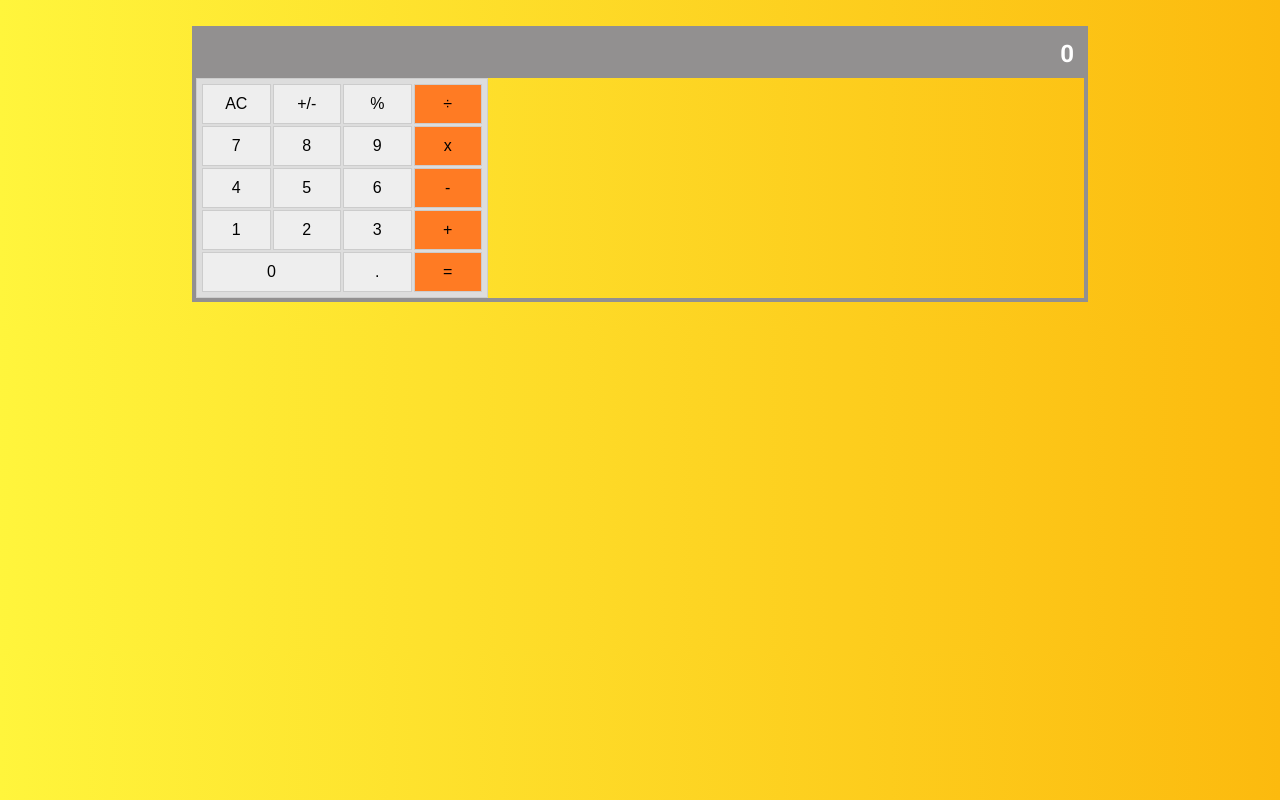
Calculator › Simulate user iteractions case 2
Click the button "7" at (236, 146), box x1=202 y1=126 x2=270 y2=166
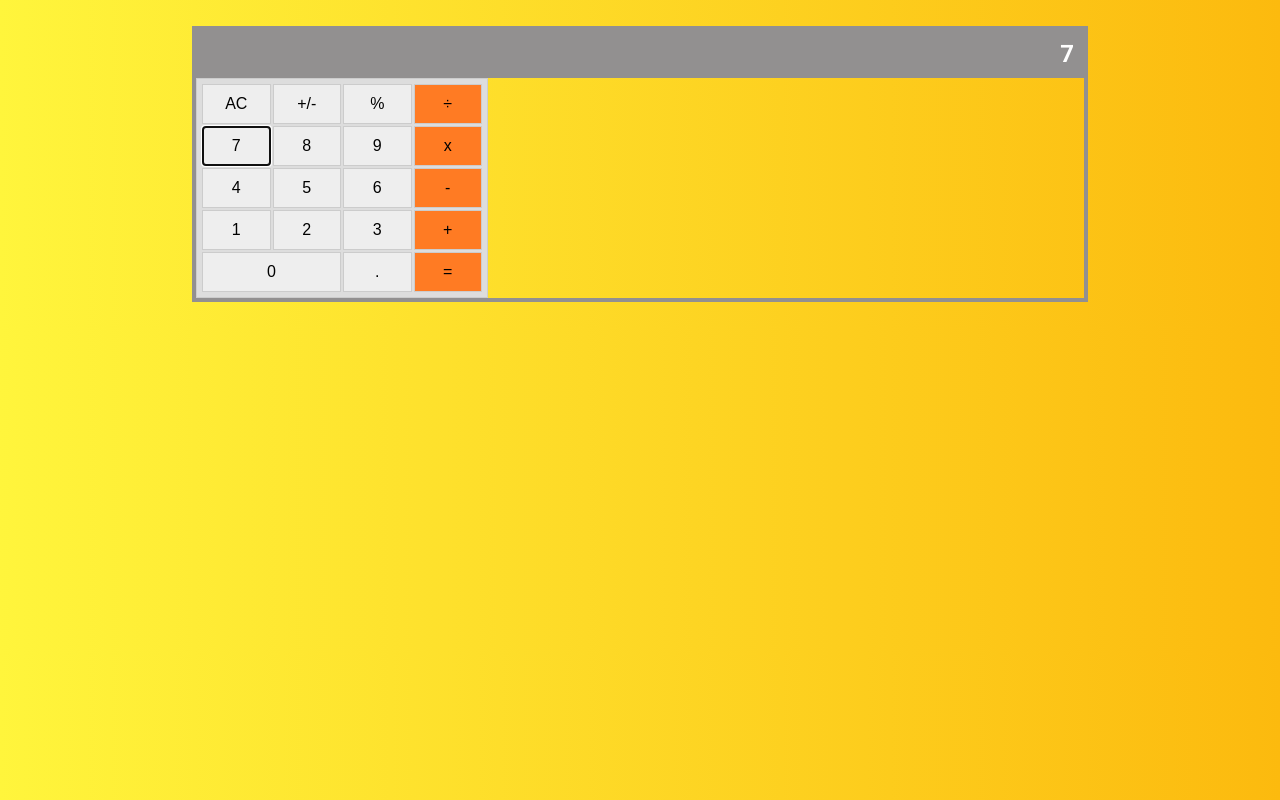
Click the button "+" at (448, 230), box x1=414 y1=210 x2=482 y2=250
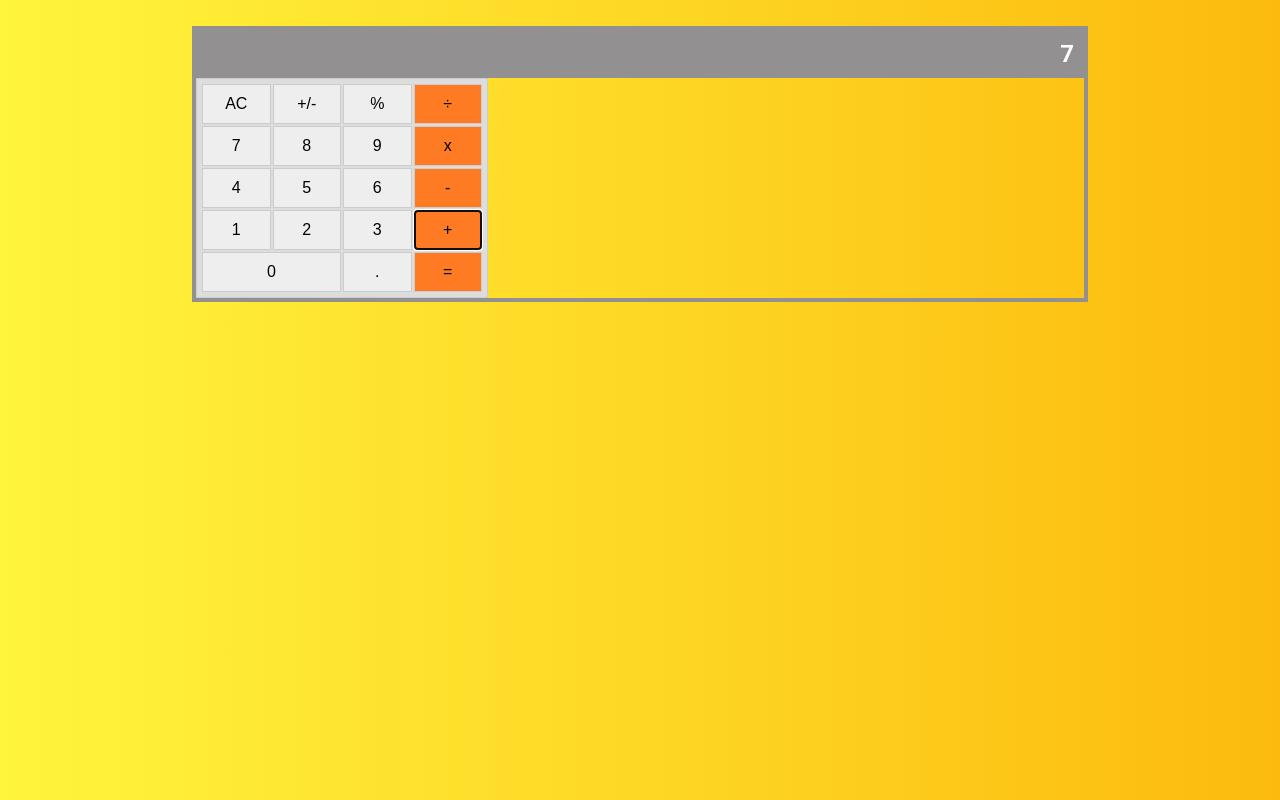
Click the button "8" at (307, 146), box x1=272 y1=126 x2=341 y2=166
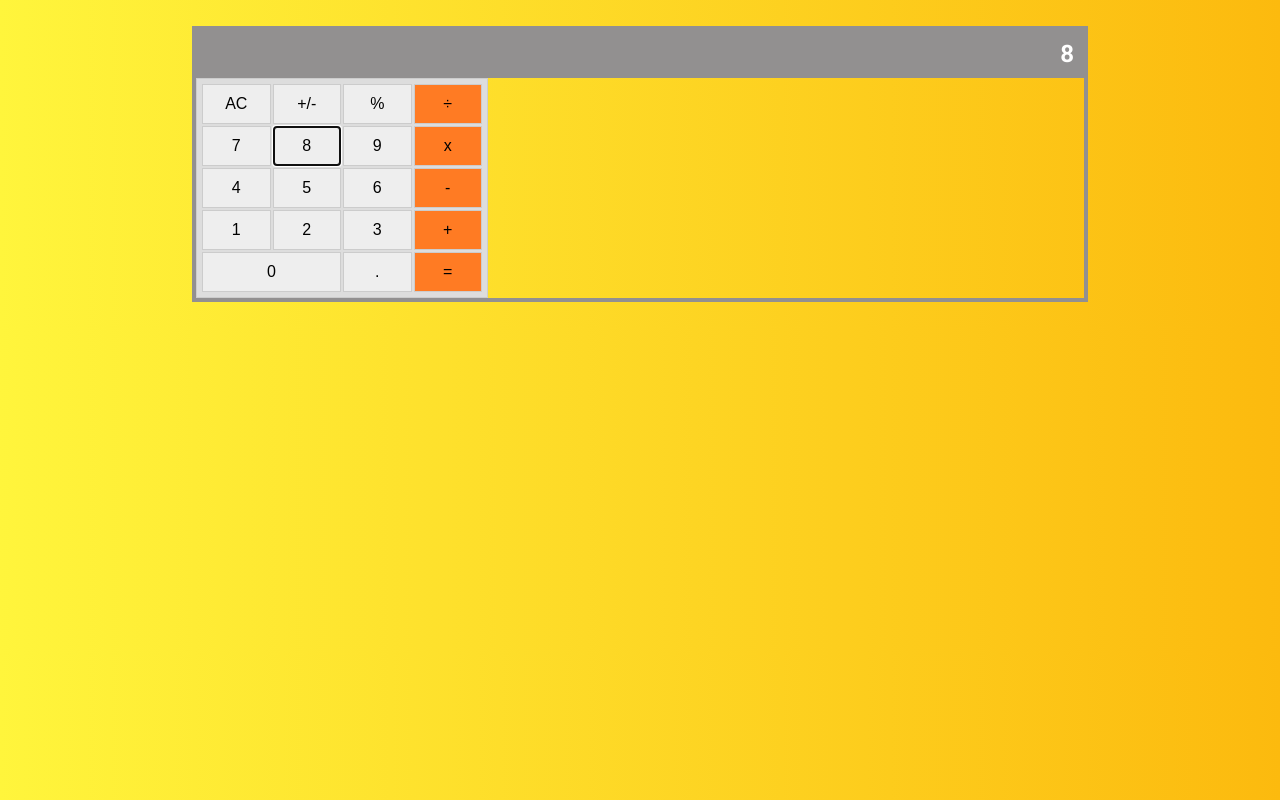
Click the button "=" at (448, 272), box x1=414 y1=252 x2=482 y2=292
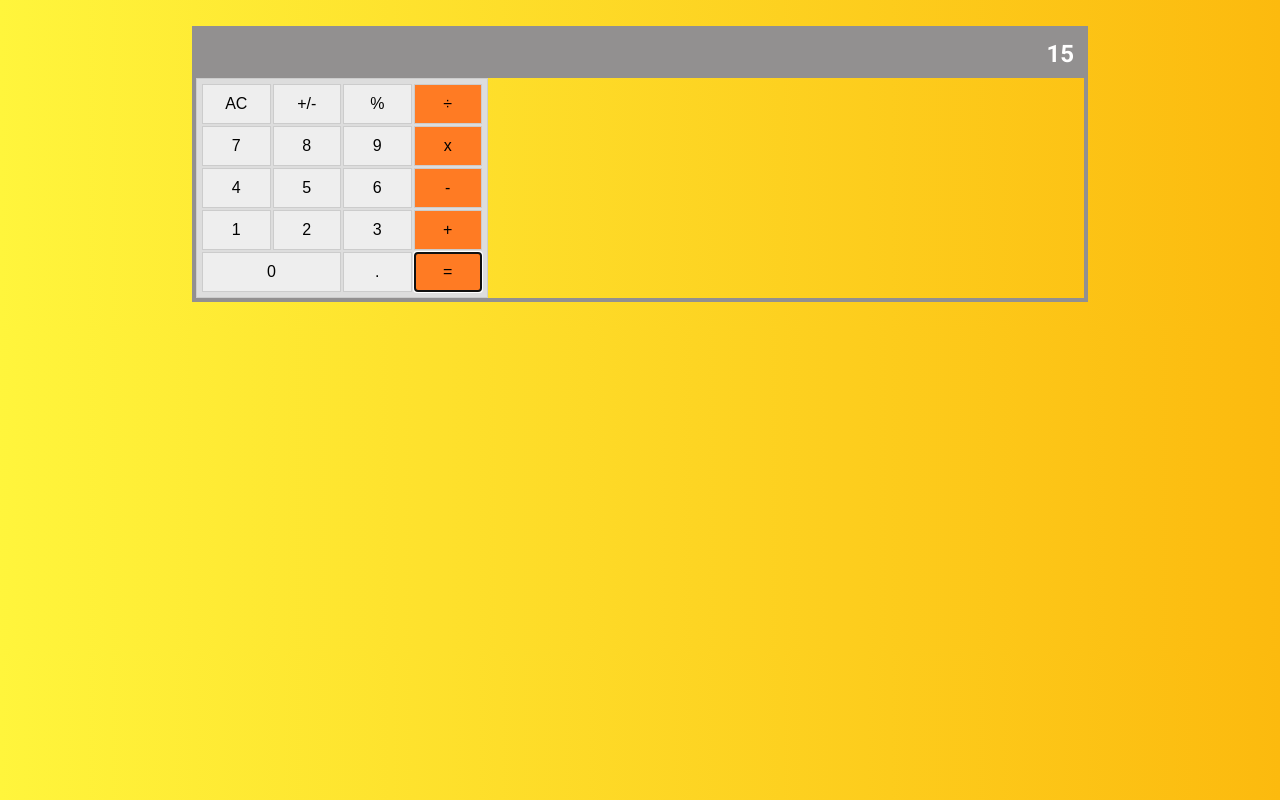
Result: the heading titled "result" reads "15" at x1=1046 y1=40 x2=1074 y2=68
